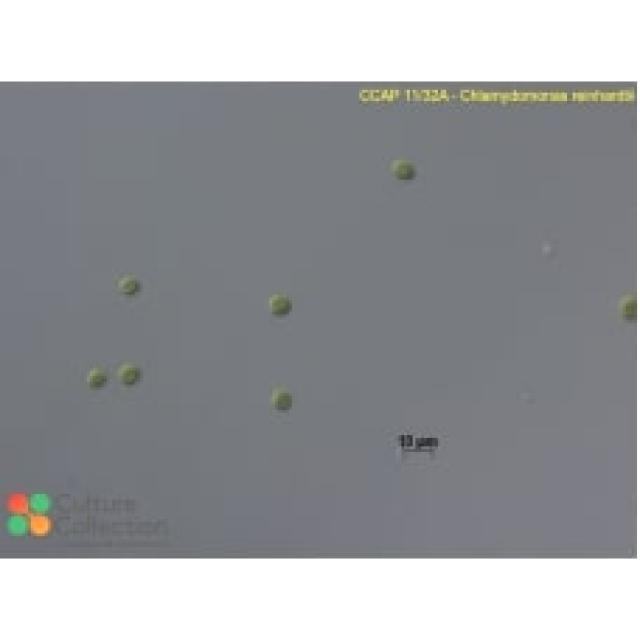Green Algae: (264, 289, 297, 323), (264, 382, 297, 415), (118, 351, 143, 390), (115, 270, 146, 300), (390, 154, 418, 186), (617, 297, 640, 322), (84, 368, 107, 390)
